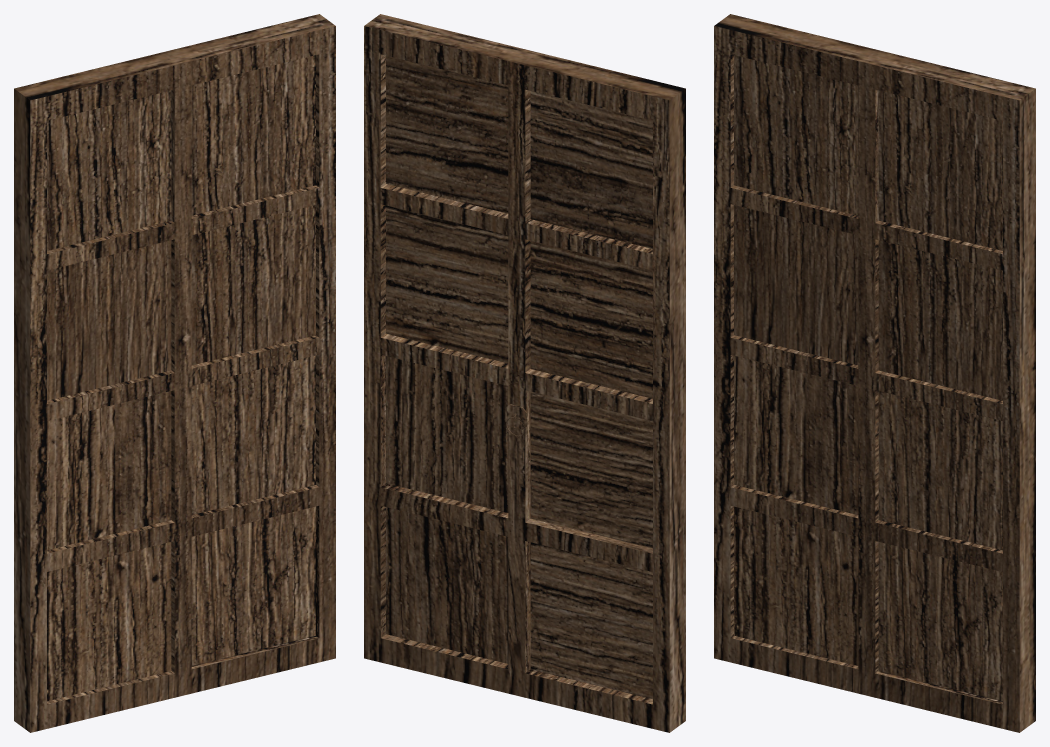
The model's file is Door.fbx.
3 views of the same model, side by side, from view 1: azimuth 30°, elevation 25°; view 2: azimuth 150°, elevation 25°; view 3: azimuth 330°, elevation 25° (orthographic).
Parts seen in each view (by area): view 1: Castle-Hall-DoorRoom; view 2: Castle-Hall-DoorRoom; view 3: Castle-Hall-DoorRoom.
Part boxes in pixels (box(x1,y1,x2,y2)): Castle-Hall-DoorRoom: box(14, 14, 335, 732); Castle-Hall-DoorRoom: box(364, 14, 685, 732); Castle-Hall-DoorRoom: box(714, 14, 1035, 732).
Bounding box in the file's own units: 37.64 × 74.46 × 3.98.
